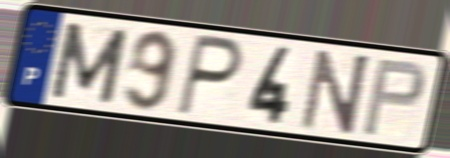4: (244, 45, 293, 127)
9: (123, 28, 180, 114)
M: (46, 19, 132, 107)
N: (298, 47, 374, 136)
P: (173, 31, 246, 120), (358, 57, 428, 139)
